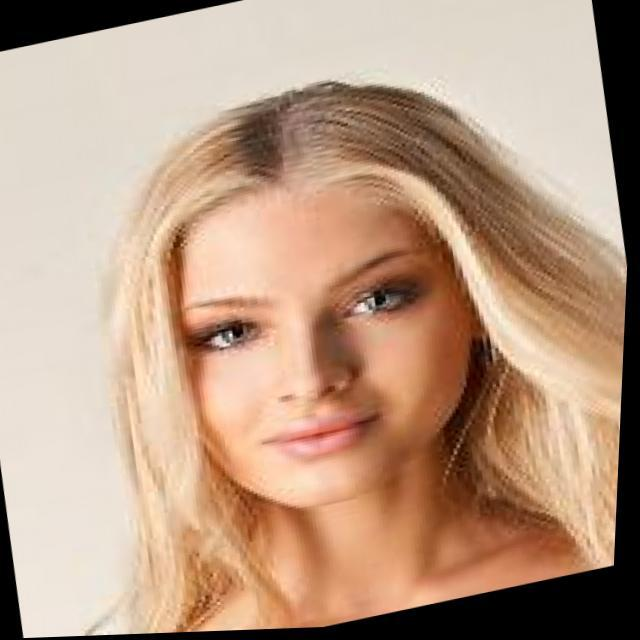Nonhelmet: (118, 60, 515, 520)
